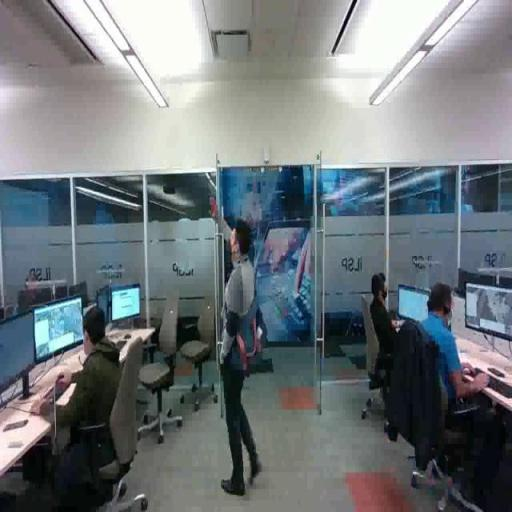person: (392, 285, 512, 496), (19, 303, 142, 495), (210, 197, 267, 496), (354, 265, 415, 390)
